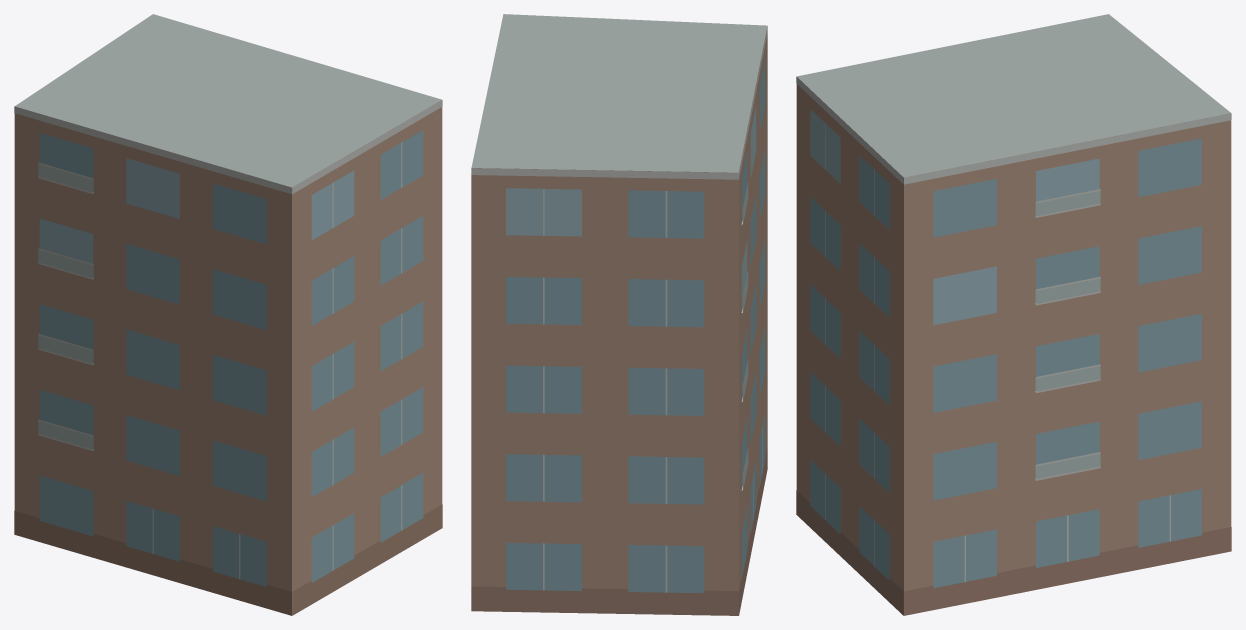
Rendered from survey-upis-33045476.glb.
The picture shows the model from 3 angles, left to right: view 1: azimuth 30°, elevation 25°; view 2: azimuth 150°, elevation 25°; view 3: azimuth 270°, elevation 25°; orthographic projection. The views are drawn at different scales.
Parts seen in each view (by area): view 1: survey-upis-33045476.tmp; view 2: survey-upis-33045476.tmp; view 3: survey-upis-33045476.tmp.
Part boxes in pixels (<box>): survey-upis-33045476.tmp: <box>14,14,442,615</box>; survey-upis-33045476.tmp: <box>471,14,767,615</box>; survey-upis-33045476.tmp: <box>796,14,1231,615</box>.
Size of the model in its own units: 12.22 by 15.25 by 13.73.
